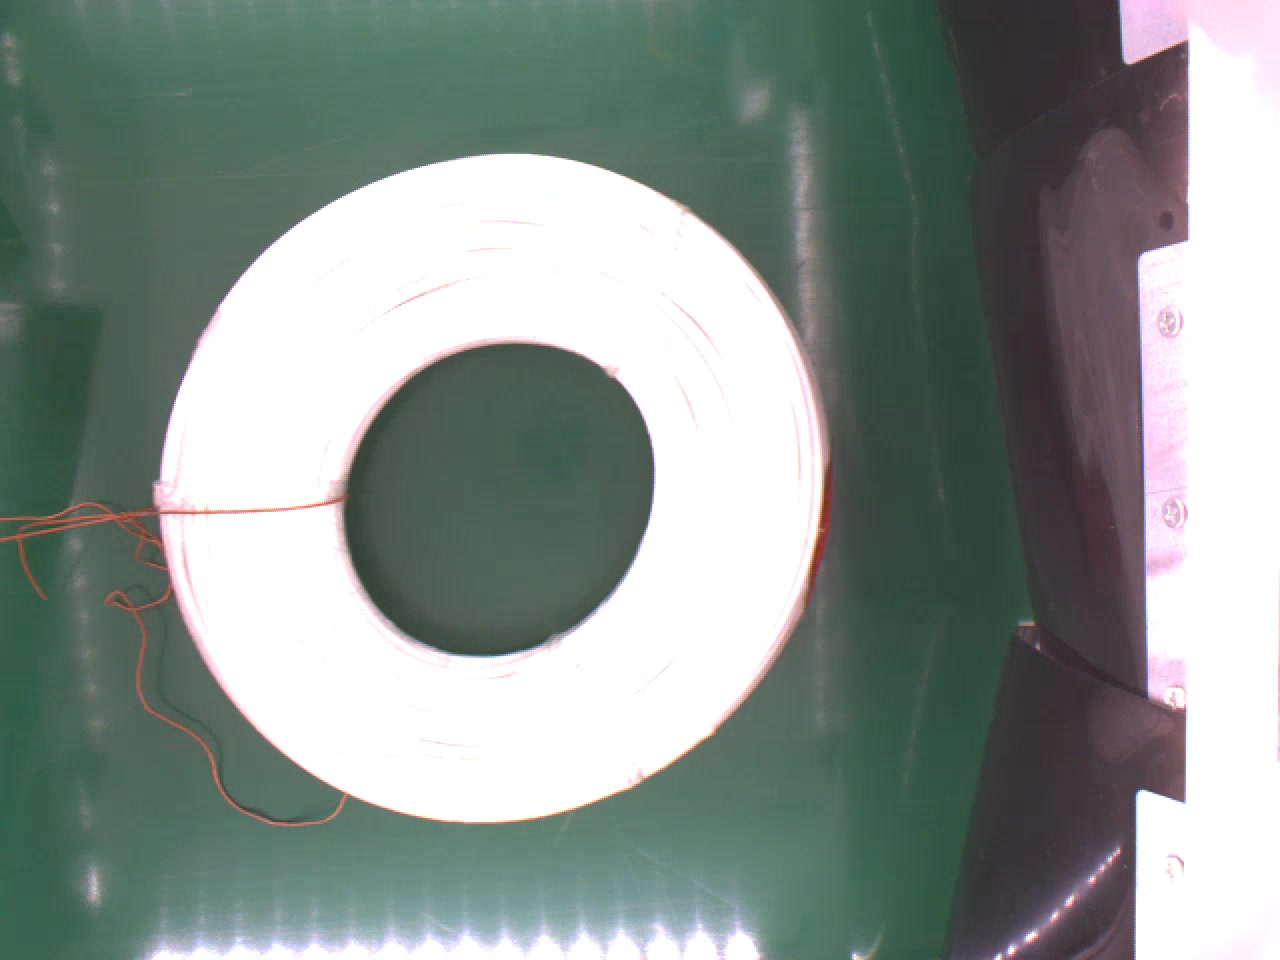white: (151, 150, 827, 833)
